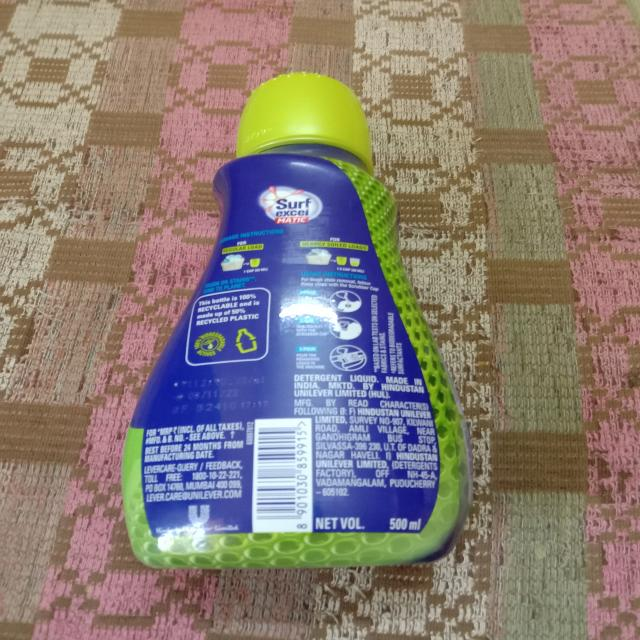detergent: (113, 71, 474, 594)
